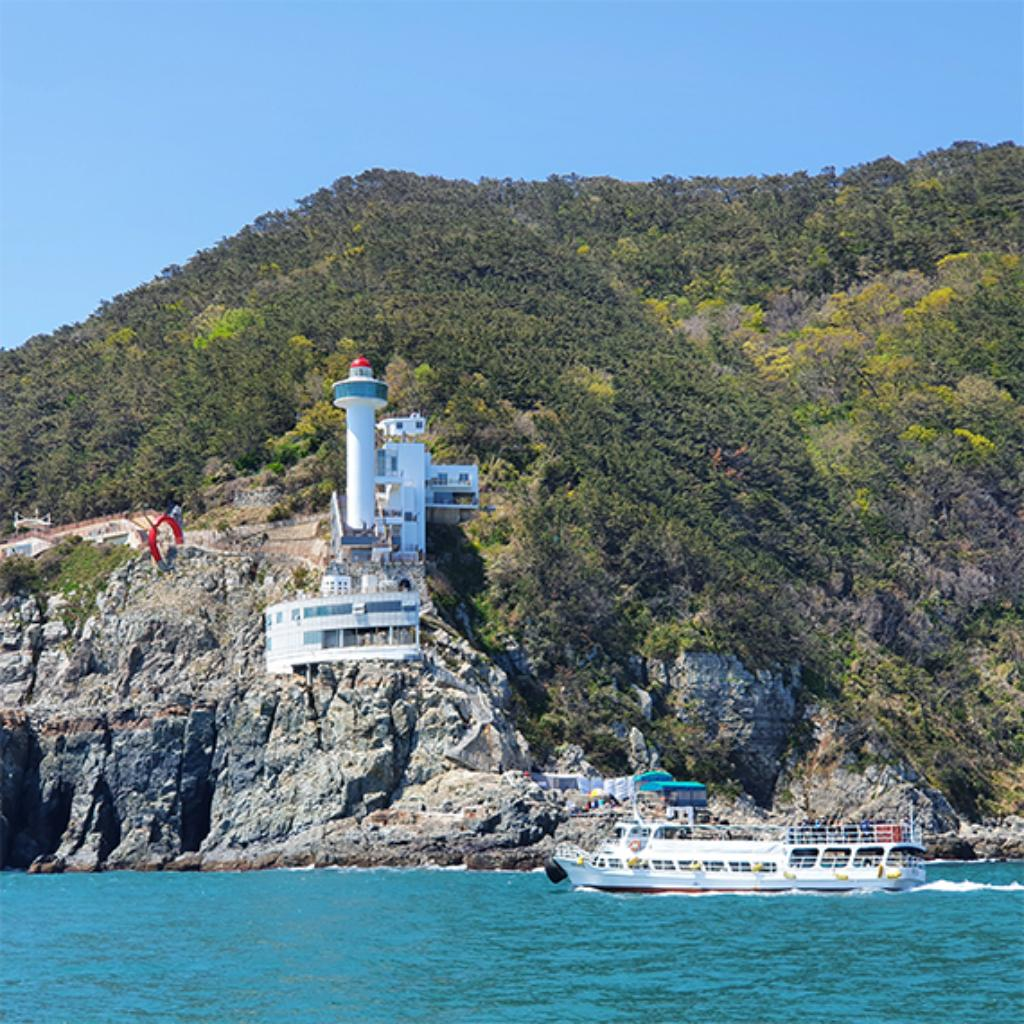PassengerShip: (534, 782, 942, 908)
